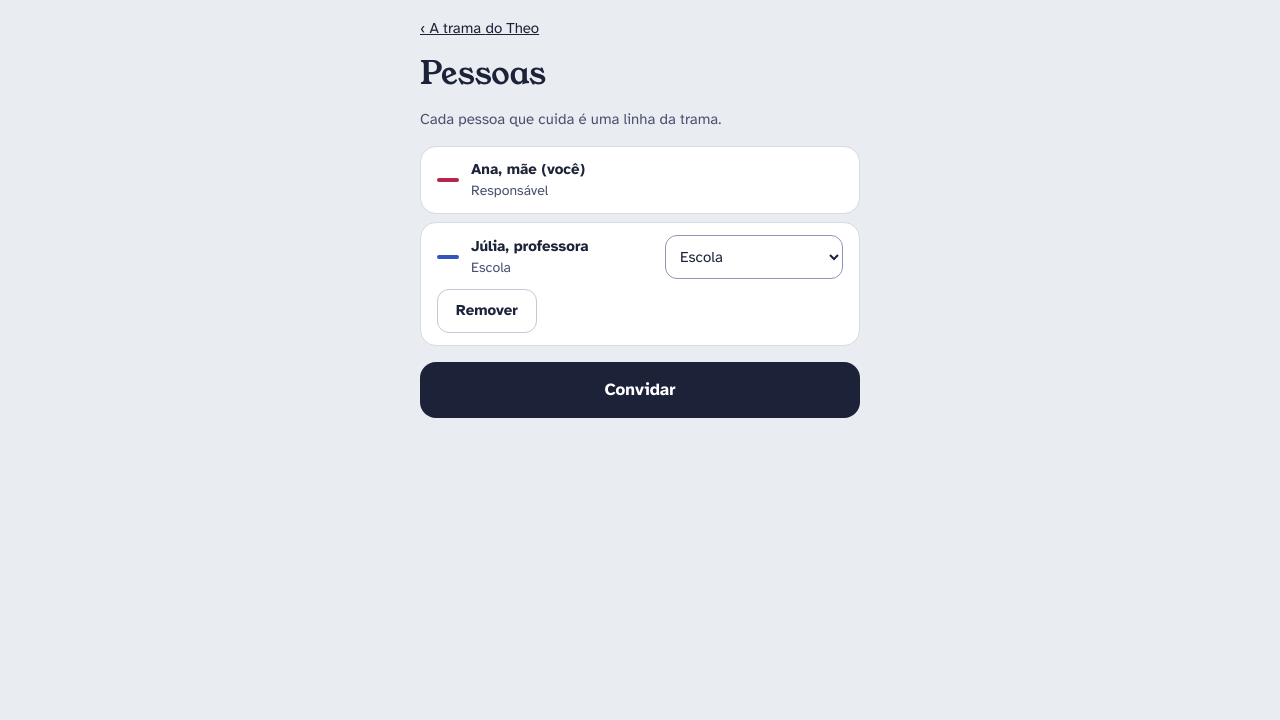
it: convidar: papel, rótulo, depois WhatsApp e copiar
Step 1. Click the button "Convidar" → point(640, 390), box [420,362,860,418]
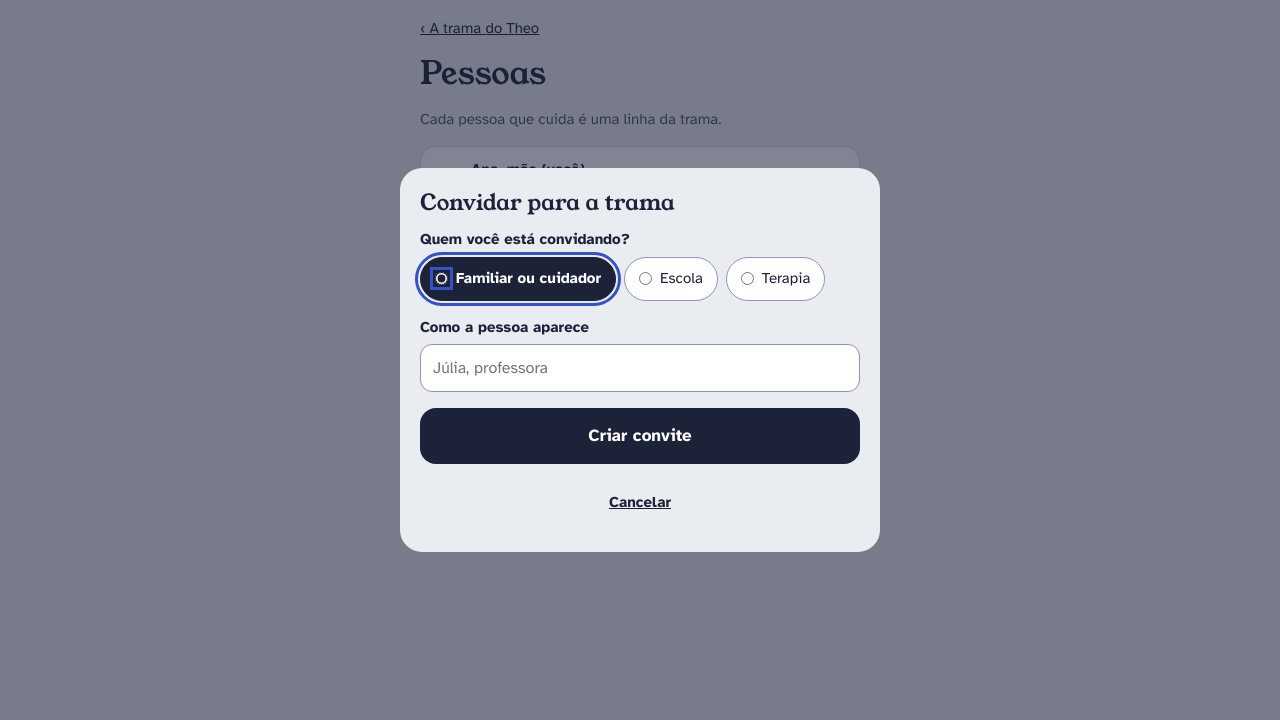
Step 2. Click the radio button labelled "Terapia" → point(747, 279), box [741,272,754,285]
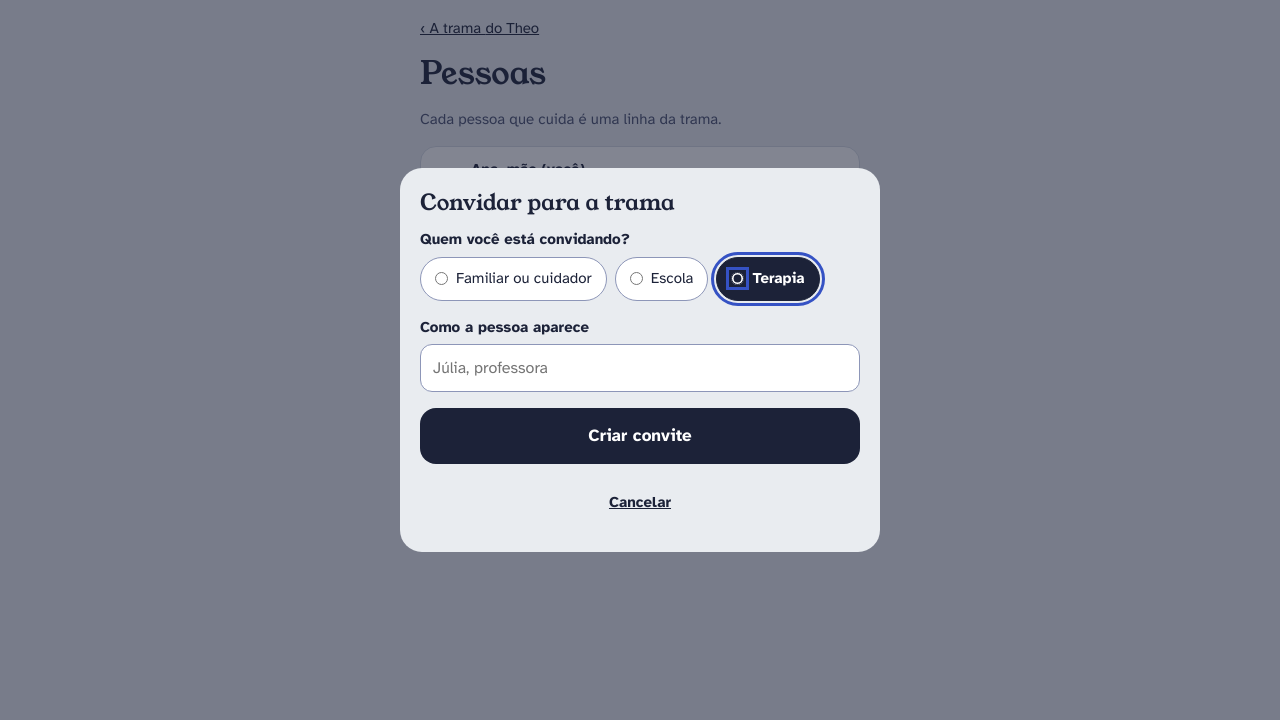
Step 3. Type "Rafa, fono" into the field labelled "Como a pessoa aparece" → point(640, 368), box [420,344,860,392]
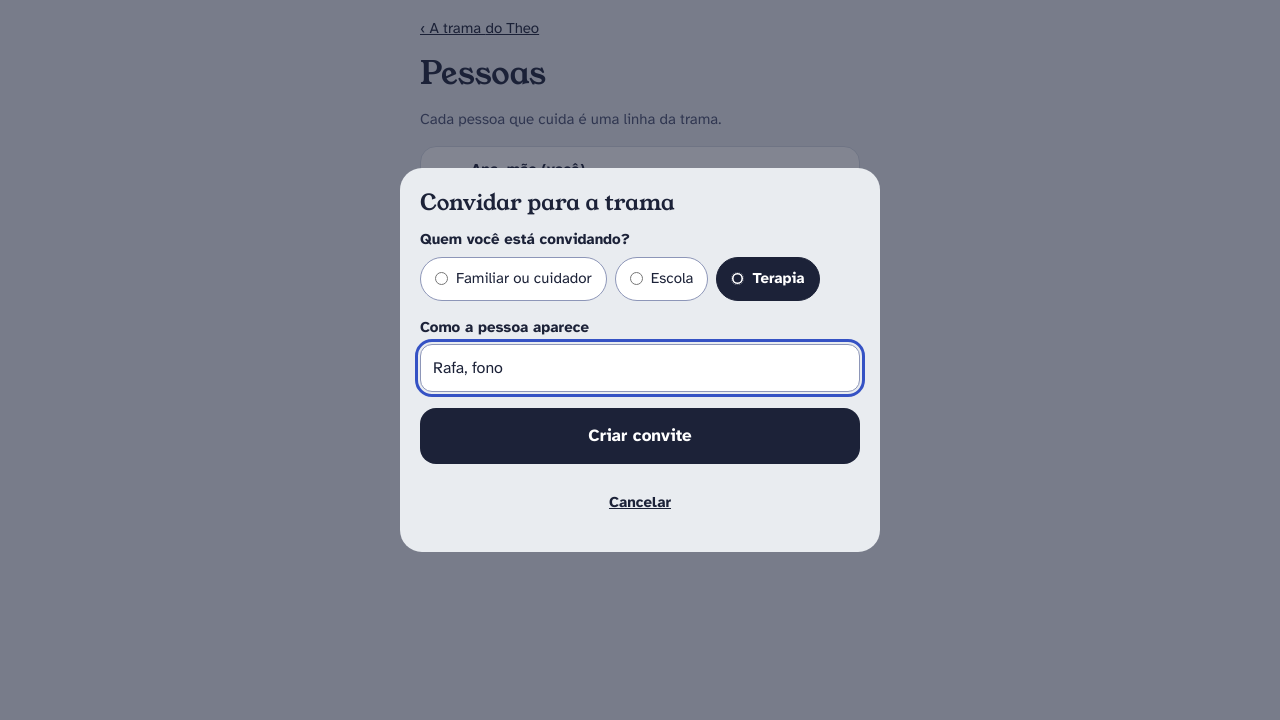
Step 4. Click the button "Criar convite" → point(640, 436), box [420,408,860,464]
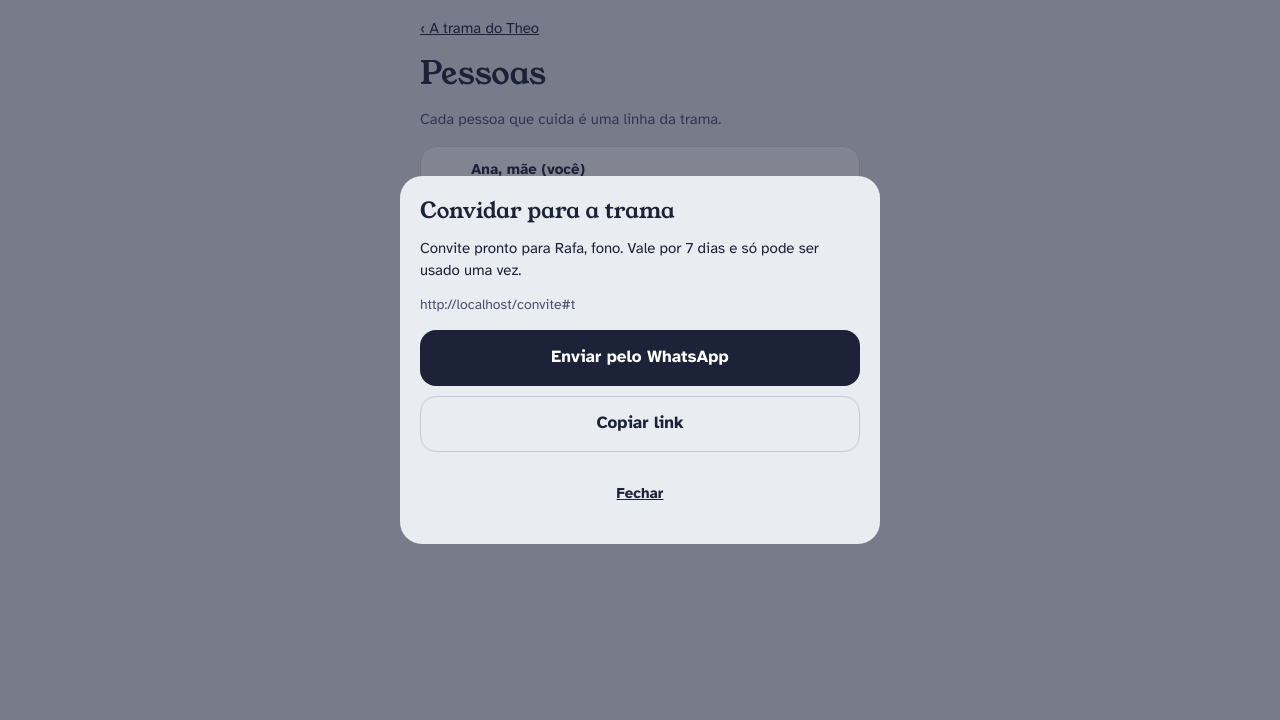
Result: the button "Copiar link" is shown at [420,396,860,452]
